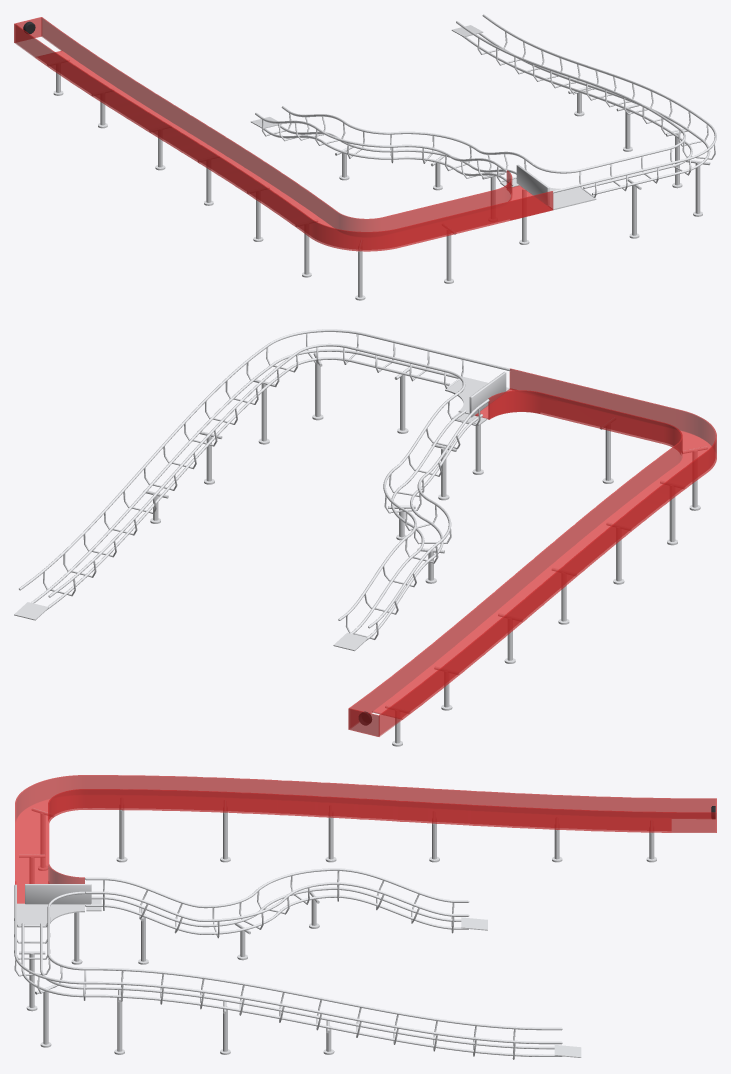
Rendered from Rampe_Aiguillage.fbx.
3 renders of one model, top to bottom at view 1: azimuth 30°, elevation 25°; view 2: azimuth 150°, elevation 25°; view 3: azimuth 270°, elevation 25°, orthographic. The views are drawn at different scales.
Parts seen in each view (by area): view 1: Rampe_Plastique, Rampe, Aiguillage; view 2: Rampe_Plastique, Rampe, Aiguillage; view 3: Rampe_Plastique, Rampe, Aiguillage.
Boxes of the visible parts, left/top/right/bottom form: Rampe_Plastique: left=14, top=17, right=553, bottom=251; Rampe: left=23, top=14, right=716, bottom=300; Aiguillage: left=516, top=164, right=549, bottom=205; Rampe_Plastique: left=348, top=368, right=716, bottom=736; Rampe: left=14, top=329, right=707, bottom=746; Aiguillage: left=469, top=371, right=506, bottom=417; Rampe_Plastique: left=15, top=775, right=716, bottom=903; Rampe: left=14, top=806, right=715, bottom=1059; Aiguillage: left=25, top=884, right=91, bottom=904.
Size of what is drawn, in the model's own units: 1115 by 202 by 1596.
